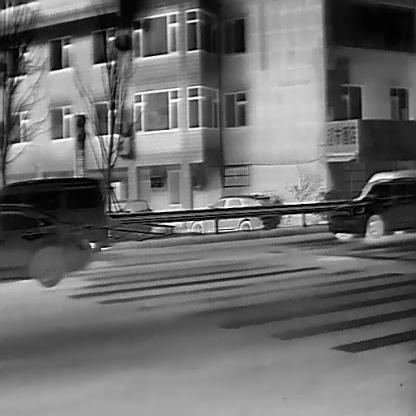car: (0, 175, 105, 249), (0, 203, 91, 286), (328, 170, 416, 240), (188, 193, 281, 233), (104, 200, 152, 240)
